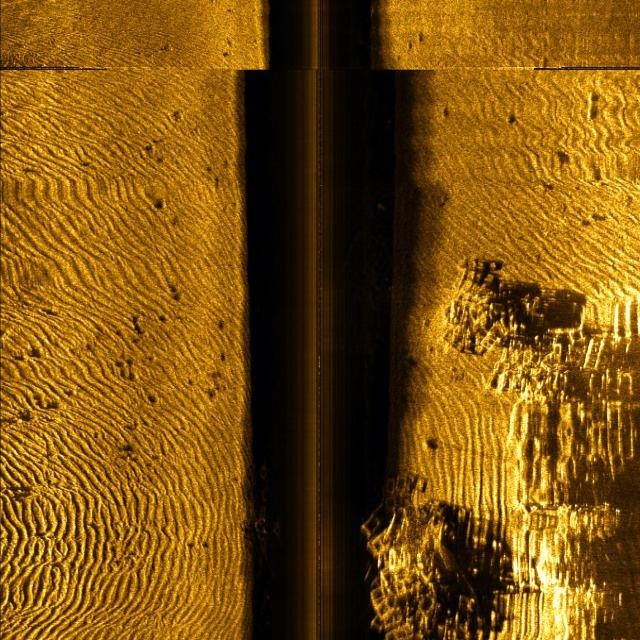artificial reef: (368, 449, 476, 640), (447, 234, 567, 405), (255, 426, 298, 588)
